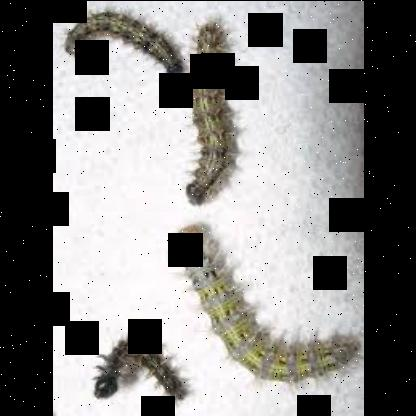oruga: (173, 211, 356, 381), (176, 15, 249, 209), (60, 13, 192, 80), (82, 329, 190, 409)
